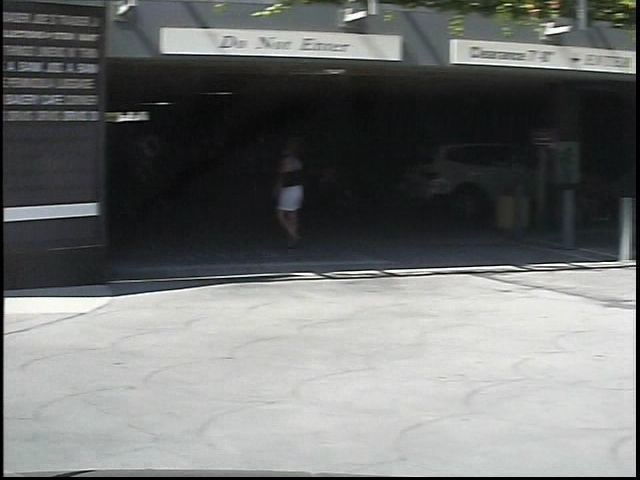person: (251, 136, 301, 257)
